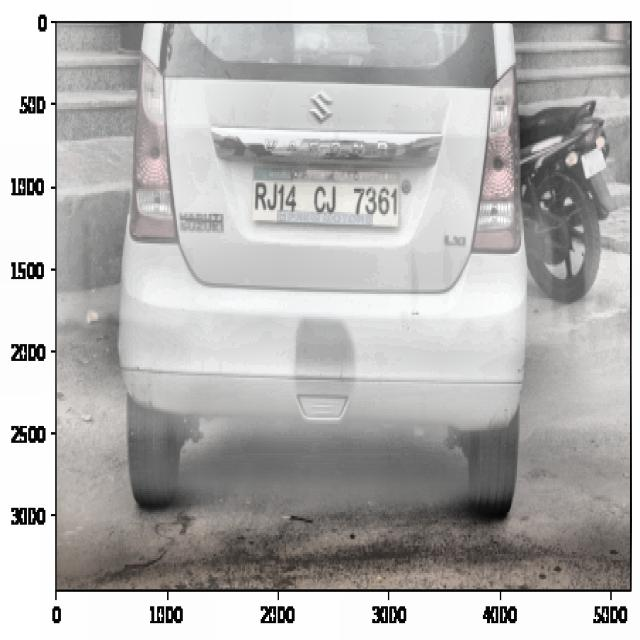license_plate: (249, 172, 403, 228)
